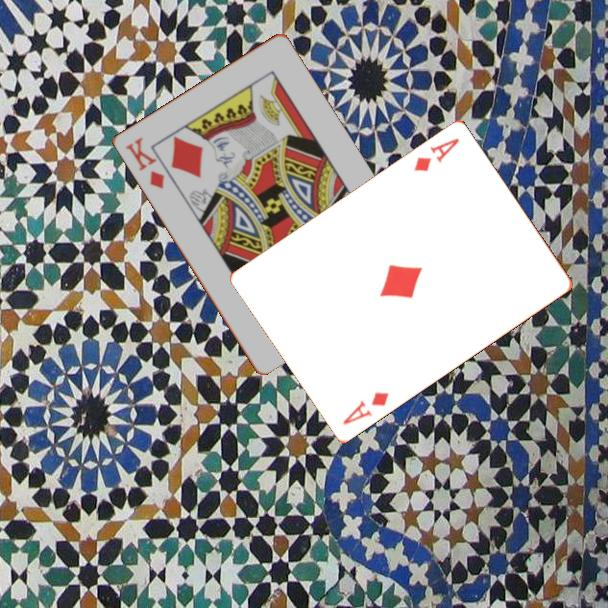d01: (410, 134, 462, 174), (339, 388, 392, 427)
d13: (121, 133, 167, 192)
